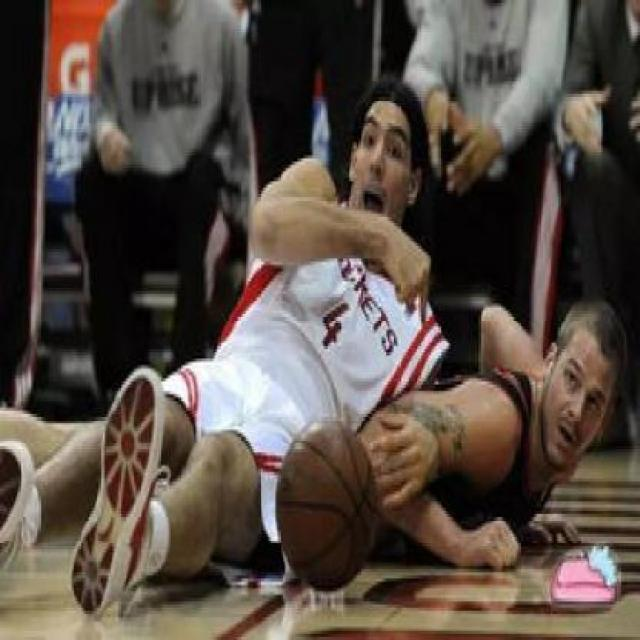fall: (54, 29, 578, 611)
